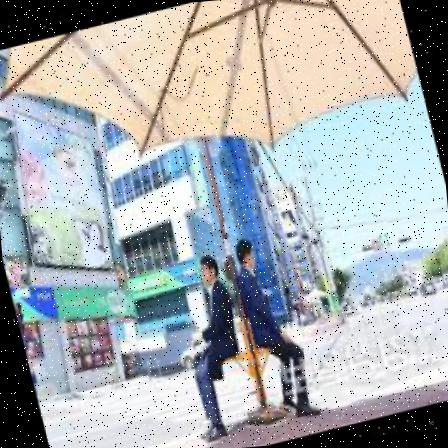silver: (156, 247, 262, 444), (227, 226, 322, 430)
